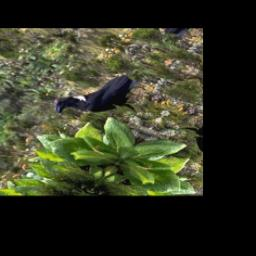Crow: (45, 61, 160, 135)
